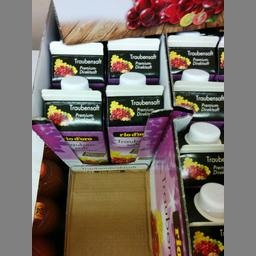juice: (40, 76, 106, 164), (106, 72, 164, 163)
